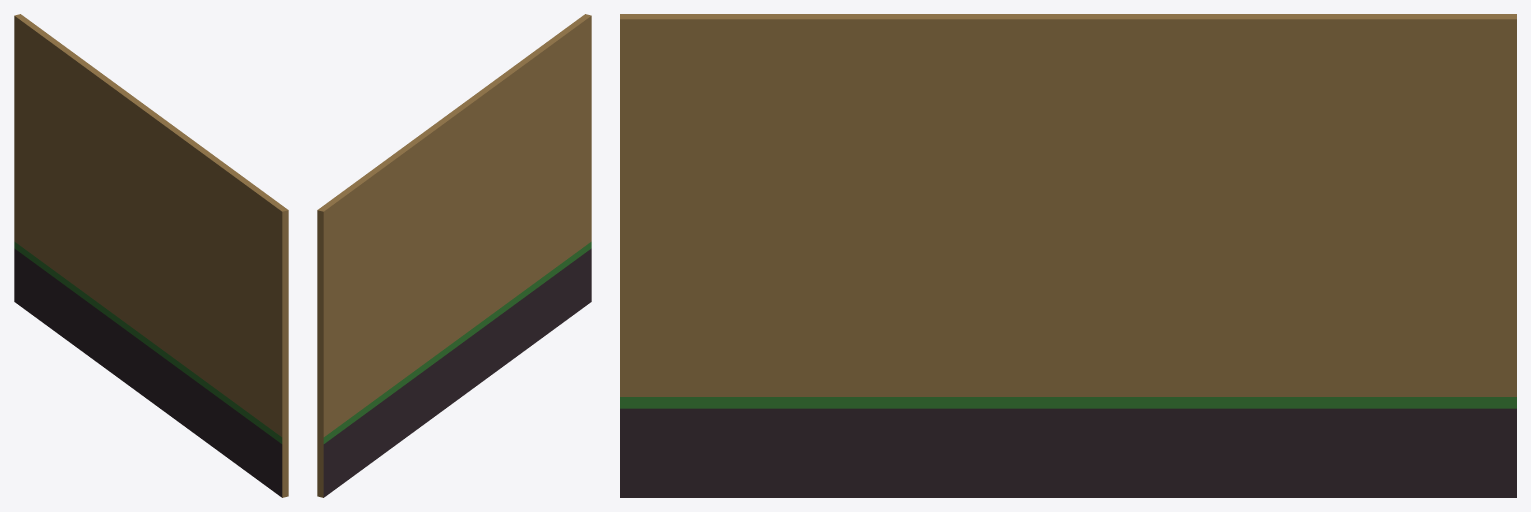
Rendered from 1_wall_002.fbx.
3 renders of one model, left to right at view 1: azimuth 30°, elevation 25°; view 2: azimuth 150°, elevation 25°; view 3: azimuth 270°, elevation 25°, orthographic. The views are drawn at different scales.
Parts seen in each view (by area): view 1: wall_002; view 2: wall_002; view 3: wall_002.
Boxes of the visible parts, box(x1,y1,x2,y2) form: wall_002: box(14, 14, 288, 497); wall_002: box(317, 14, 591, 497); wall_002: box(620, 14, 1516, 497).
Bounding box in the file's own units: 36.86 × 1567 × 2660.
